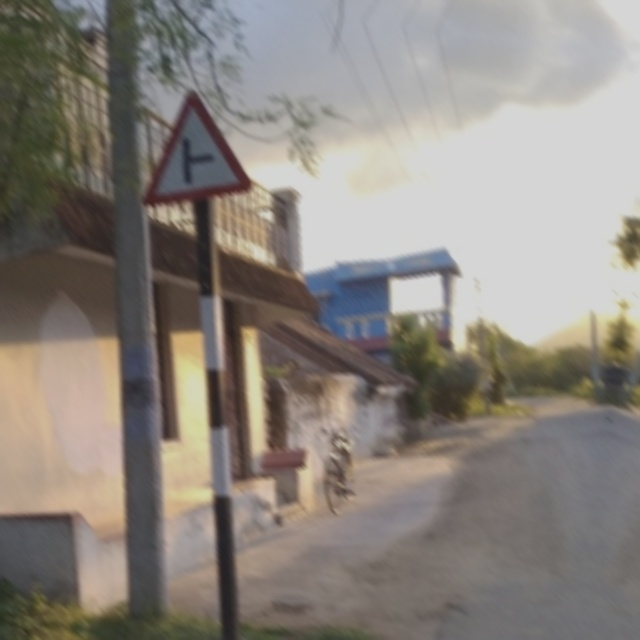Side_Road_Right: (131, 82, 267, 220)
